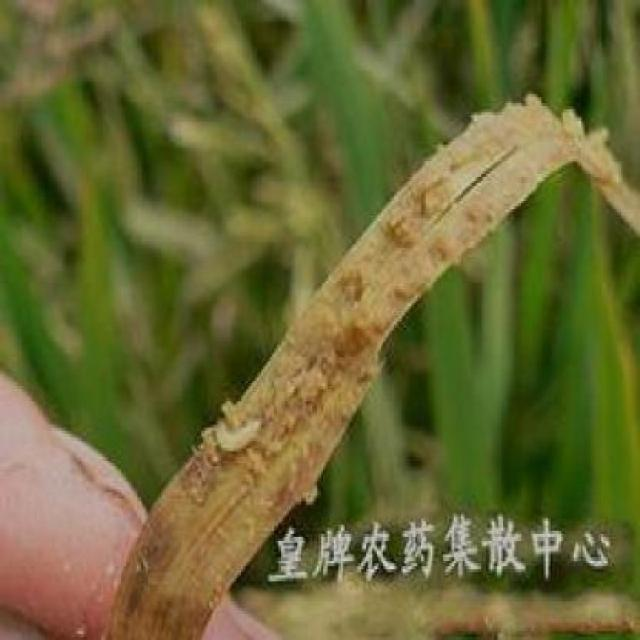whorl-maggot: (204, 410, 274, 461)
